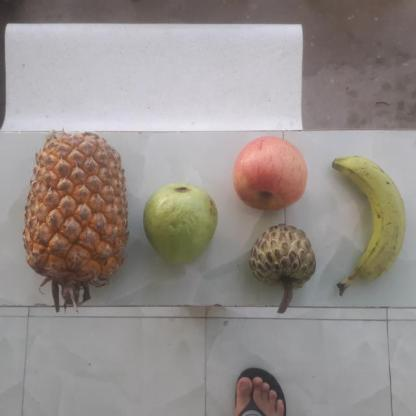annona: (246, 224, 316, 302)
apple: (228, 137, 310, 212)
banana: (329, 156, 403, 289)
guava: (140, 183, 218, 264)
pineapple: (22, 135, 124, 287)
